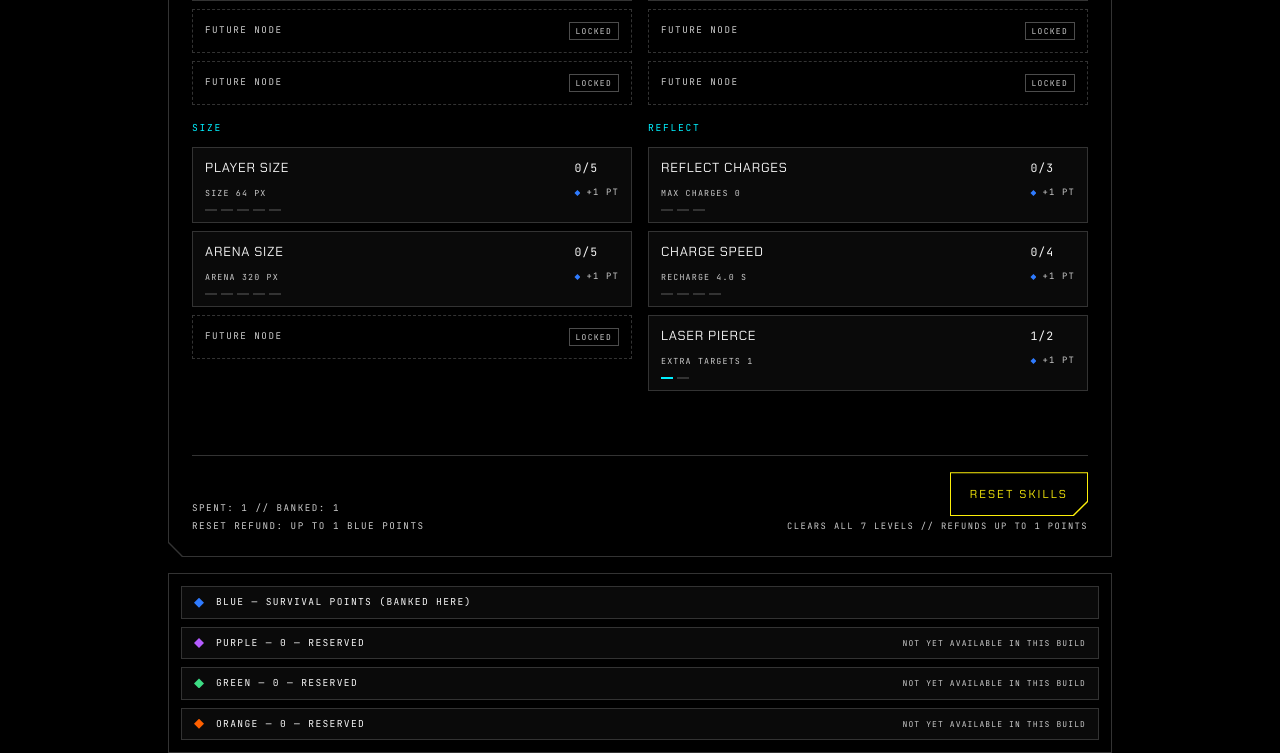
it: SkillsScreen › adds the last level, announces MAXED, and leaves no removal control
(page scrolled)
Click the button "Laser Pierce 1/2 EXTRA TARGETS 1 +1 PT" at x=709, y=335, box [648,315,1088,391]
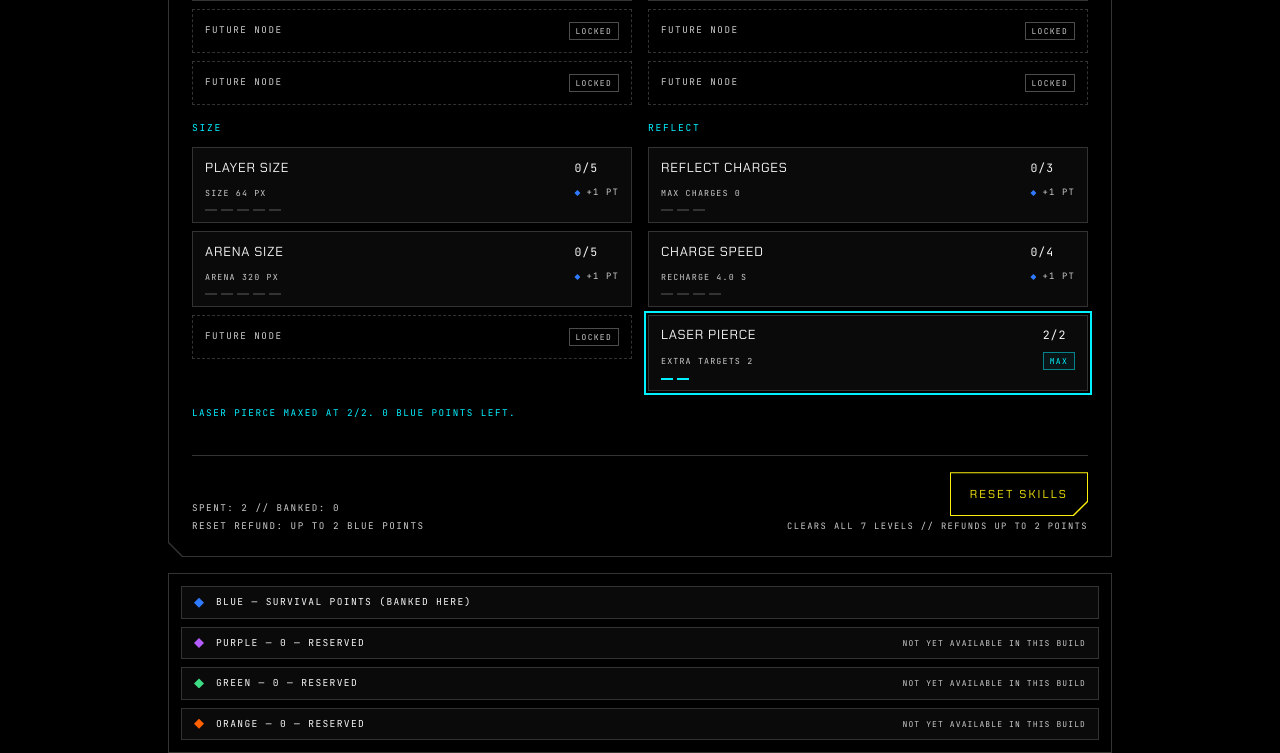
expect the message reads "LASER PIERCE MAXED AT 2/2. 0 BLUE POINTS LEFT.": met, box [192,407,516,419]
